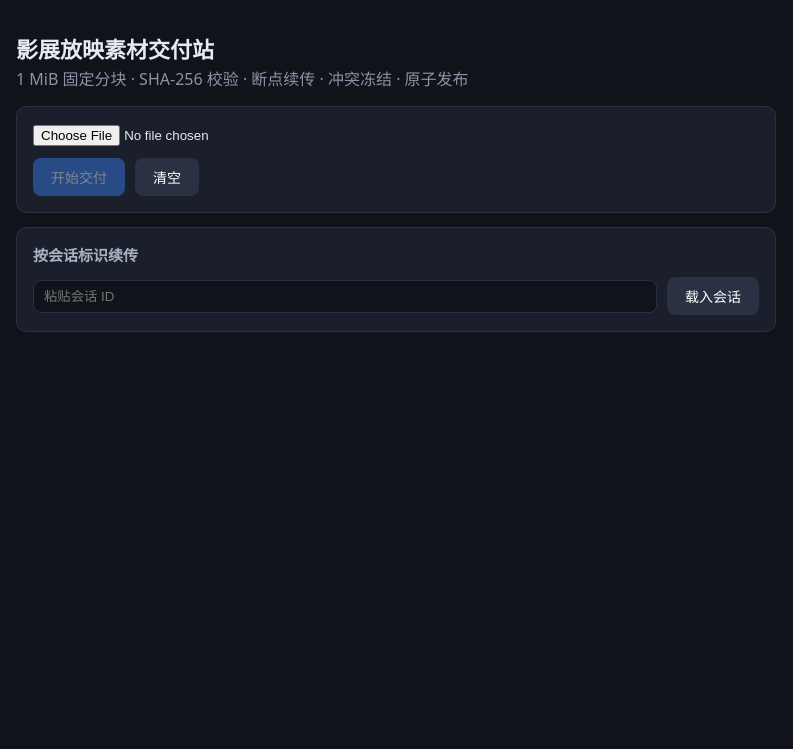
Test: 成品下载入口 › 按会话标识查询到 completed 的旧会话同样出现下载入口
Type "old-session-1" into the field with class "sid" at [345, 296], box [33,280,657,312]
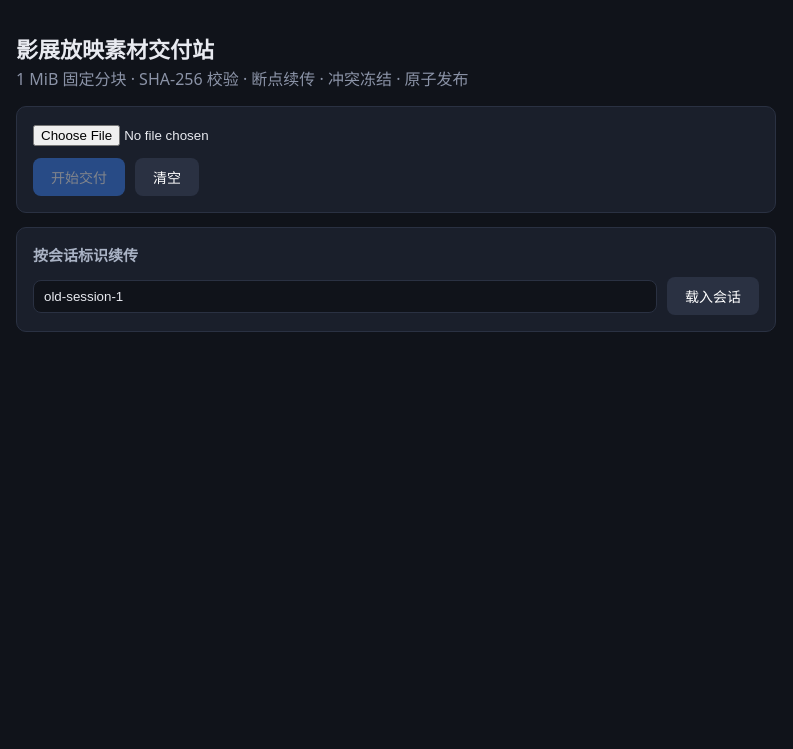
Click the button "载入会话" at [713, 296], box [667,277,759,315]
(page scrolled)
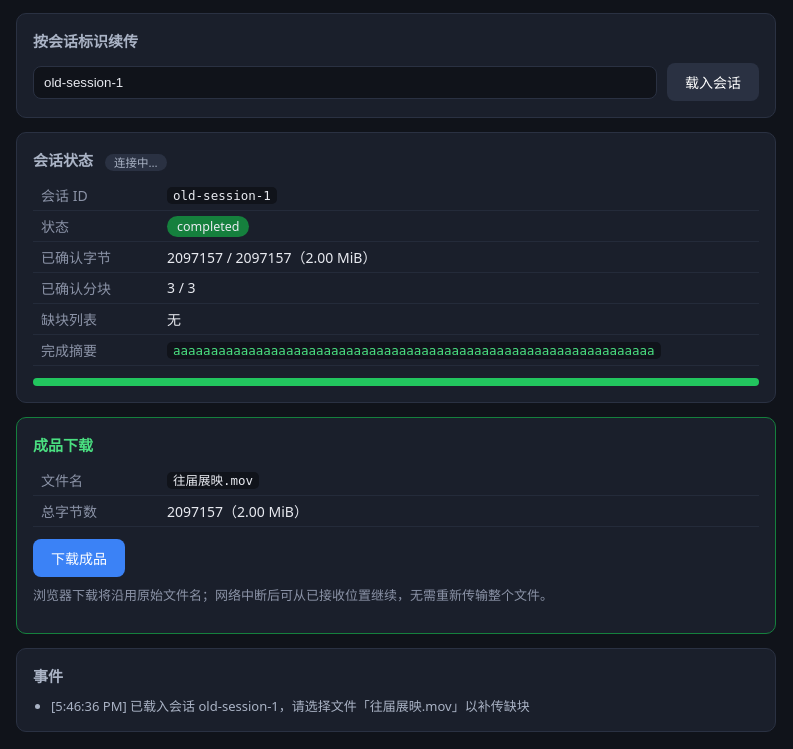
Expected: the element with test id "download-area" is shown, [16,417,776,634]
Expected: the element with test id "download-area" shows "往届展映.mov", [173,473,253,488]
